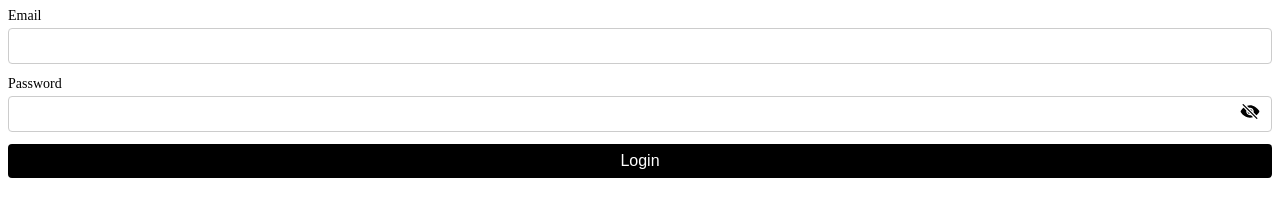
it: LoginForm › clears a previous error when retrying and succeeds after the retry resolves
Type "reader@example.com" into the field labelled "Email" at (640, 46), box [8,28,1272,64]
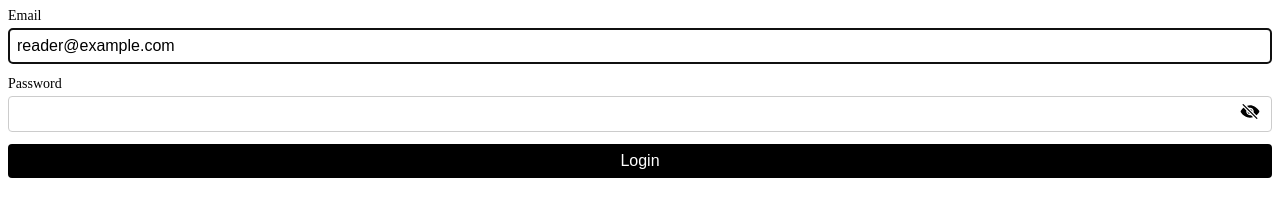
Type "password123" into the password field labelled "Password" at (640, 114), box [8,96,1272,132]
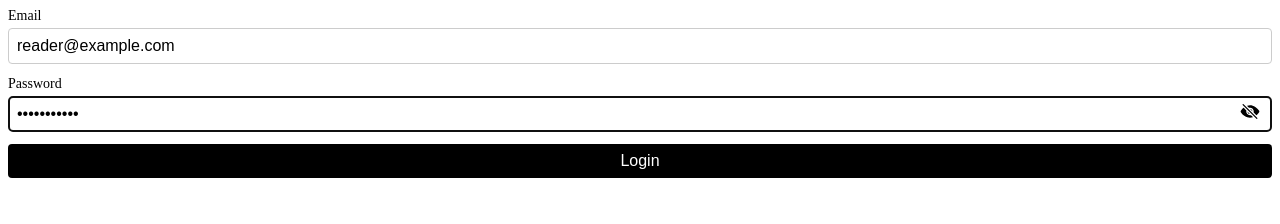
Click the button "Login" at (640, 161), box [8,144,1272,178]
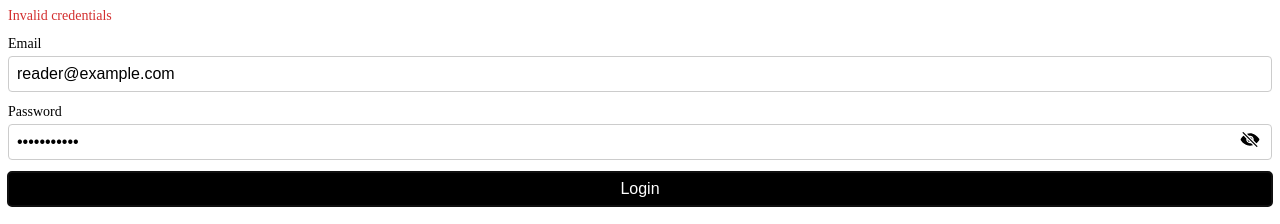
Now the text "Invalid credentials" is shown, box [8,8,112,23]
Click the button "Login" at (640, 189), box [8,172,1272,206]
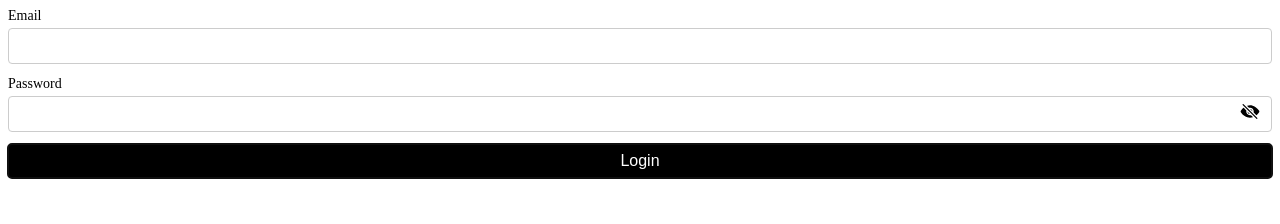
Now the text "Invalid credentials" is gone
